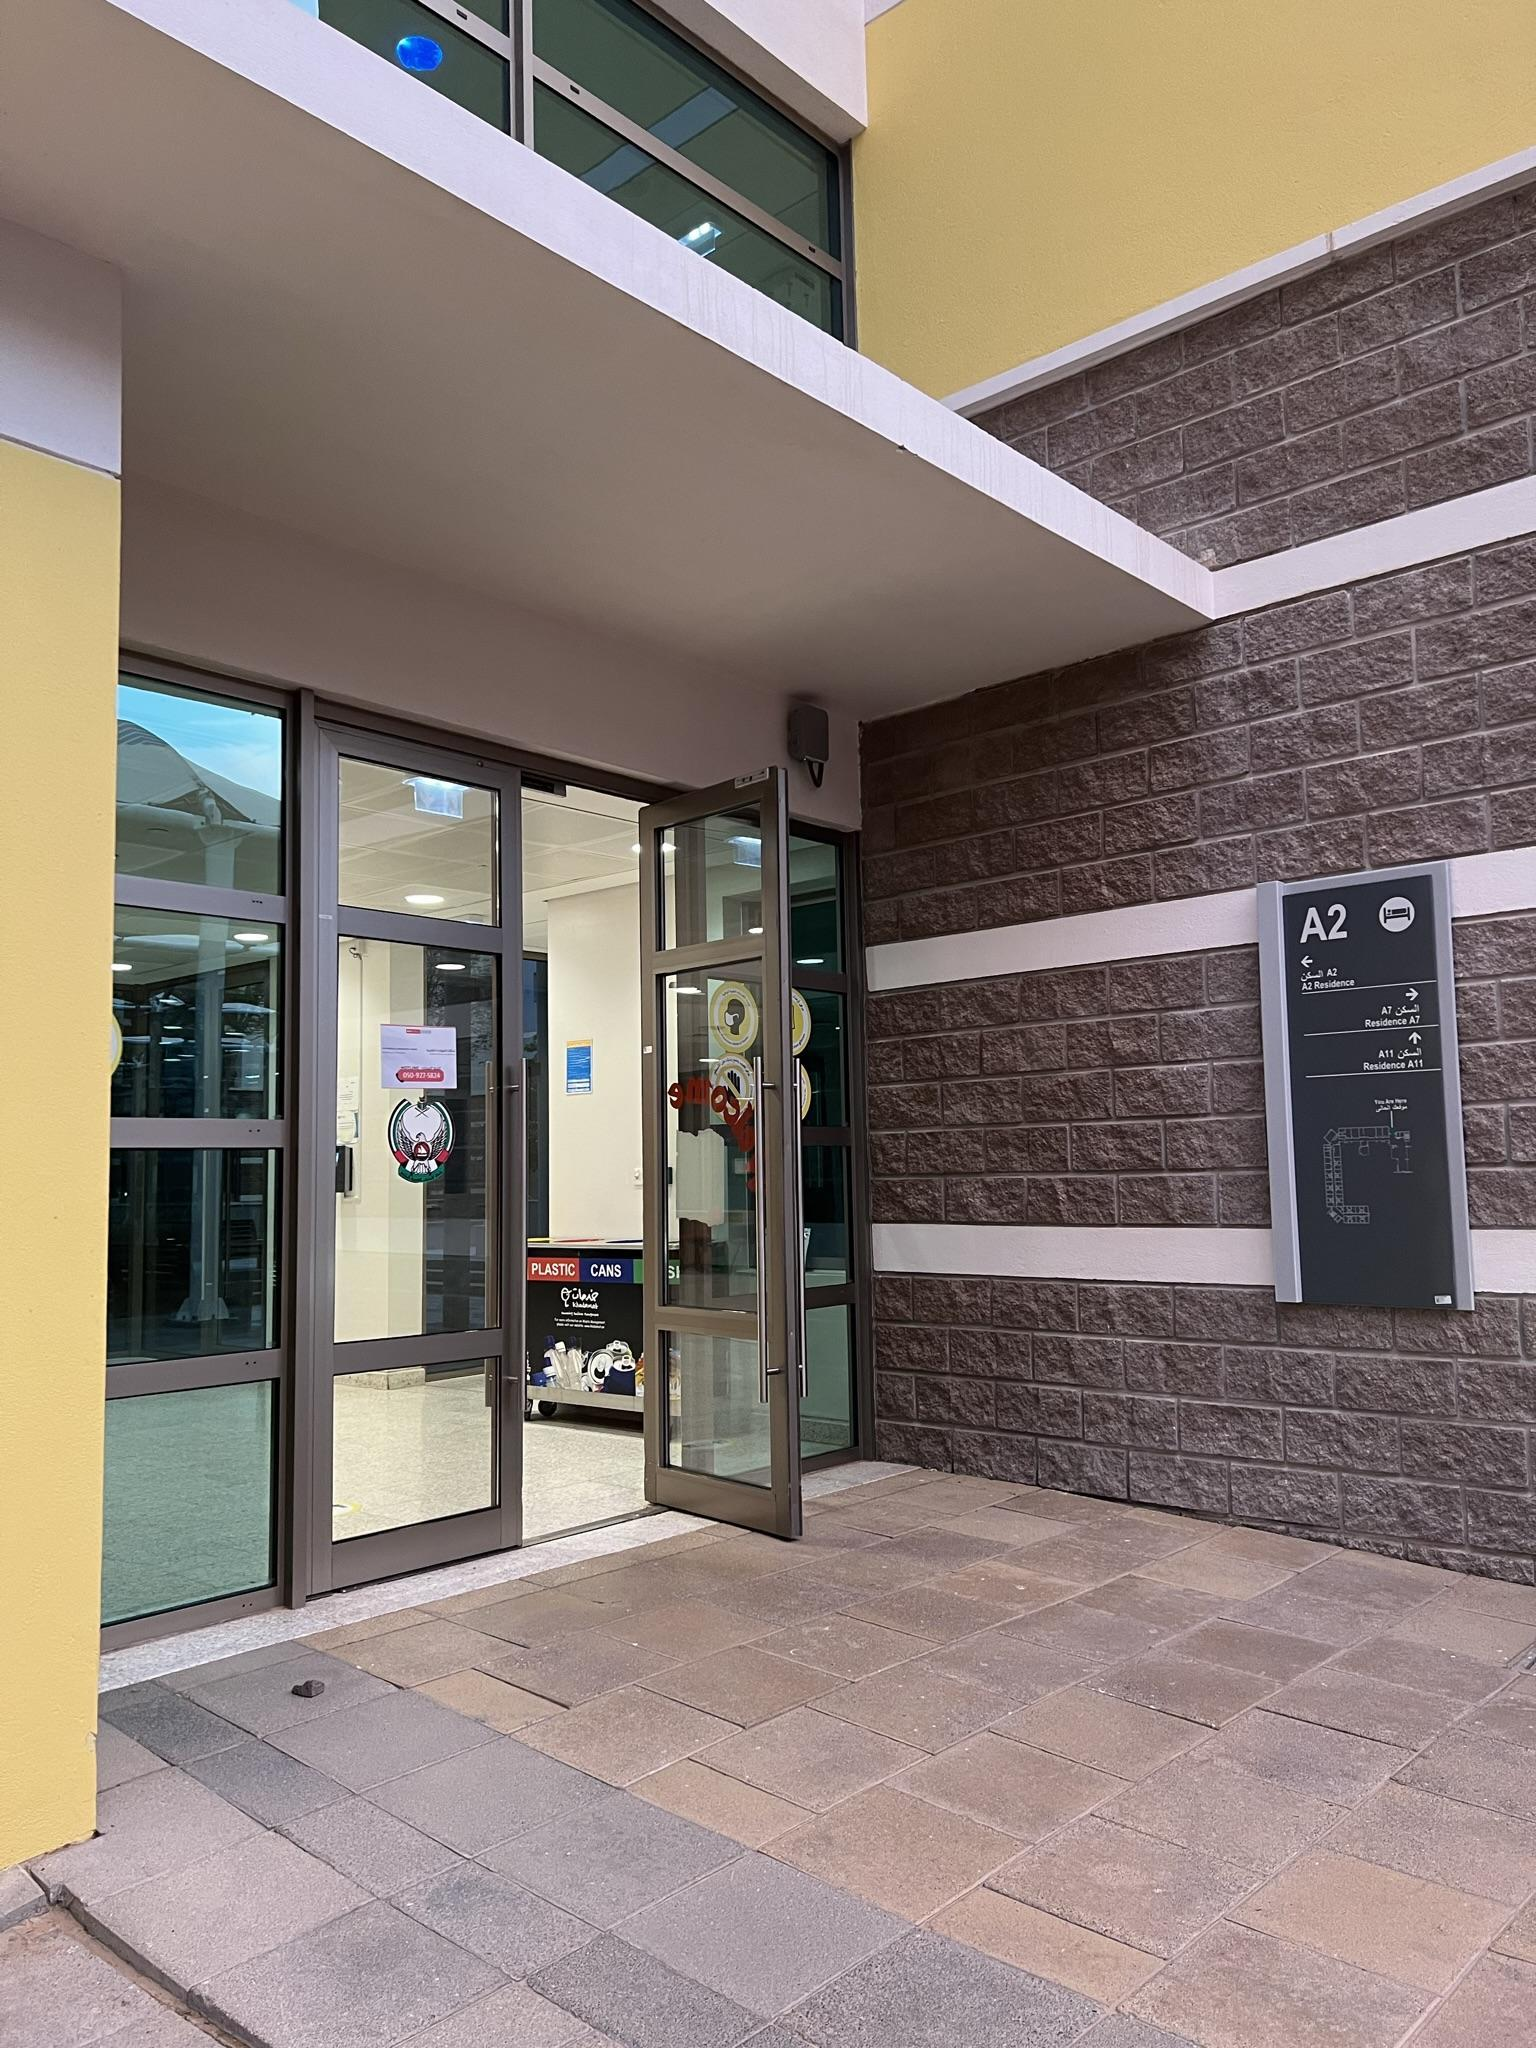door: (636, 780, 810, 1542)
handle: (750, 1048, 779, 1406), (794, 1059, 815, 1401)
